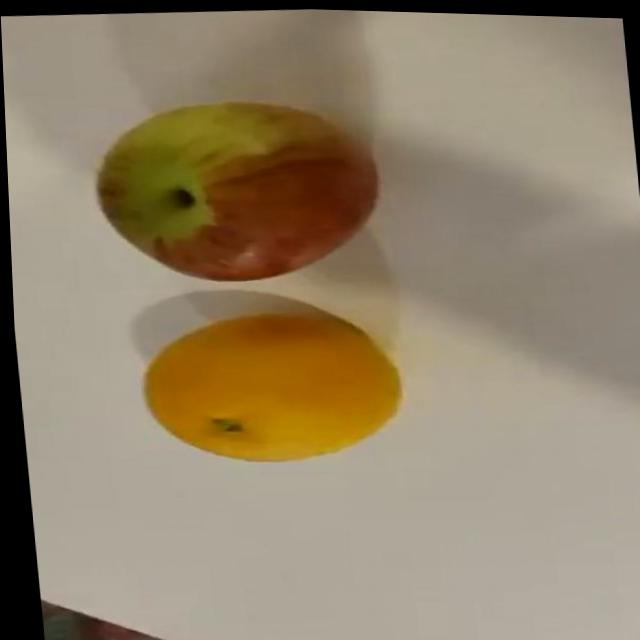Apple: (88, 90, 388, 293)
Orange: (132, 302, 407, 472)
